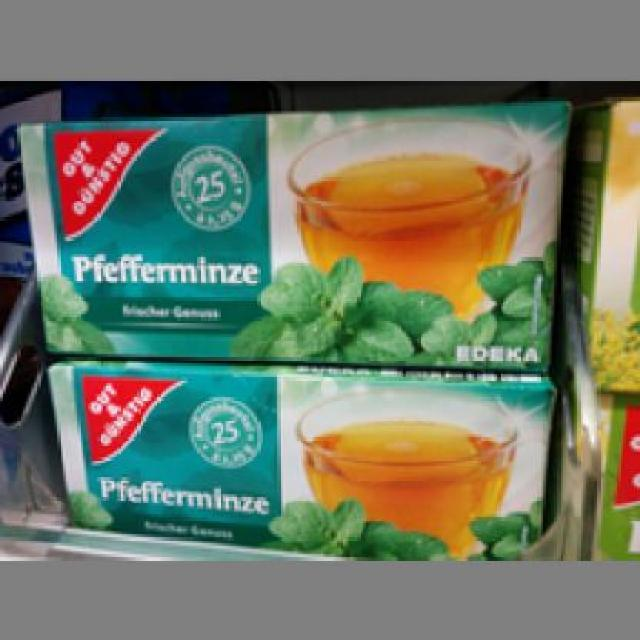Tea: (14, 96, 574, 370), (42, 348, 552, 552)
